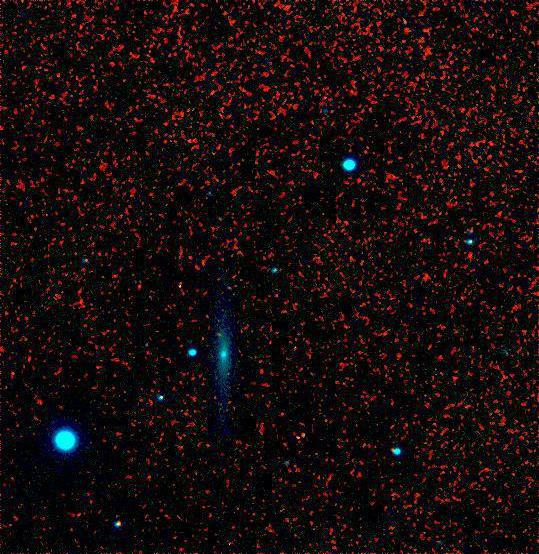star: (205, 320, 235, 350)
